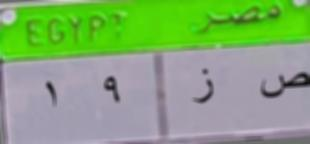1: (37, 74, 65, 114)
9: (96, 69, 128, 114)
saad: (254, 66, 310, 101)
zay: (187, 66, 224, 110)
